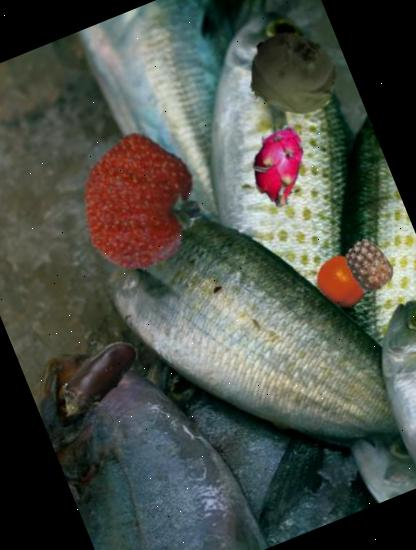Clementine: (308, 247, 377, 316)
Eggplant: (32, 312, 164, 444)
Kohlrabi: (231, 16, 351, 136)
Pineapple: (334, 230, 404, 300)
Pitahaya: (226, 110, 335, 219)
Strawberry: (50, 109, 231, 290)
